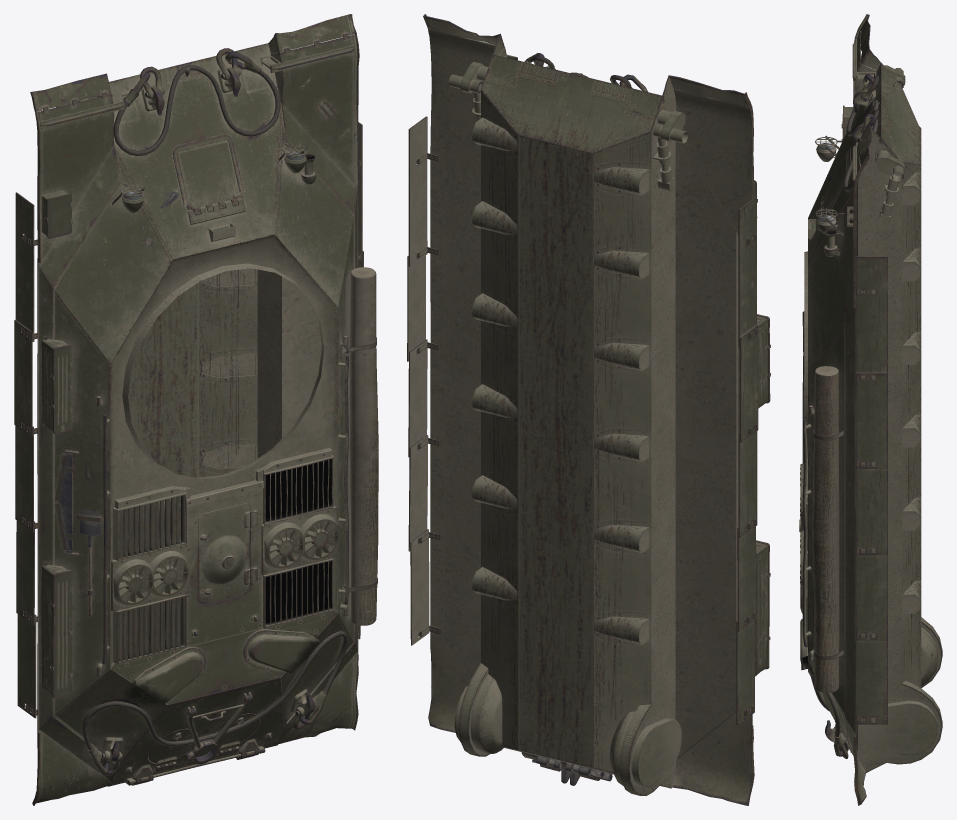
File: Hull.glb
3 views of the same model, side by side, from view 1: azimuth 30°, elevation 25°; view 2: azimuth 150°, elevation 25°; view 3: azimuth 270°, elevation 25° (orthographic). The views are drawn at different scales.
Visible parts, largest first — view 1: set_0_group_0; view 2: set_0_group_0; view 3: set_0_group_0.
Part boxes in pixels (left/top/right/bottom): set_0_group_0: left=14, top=14, right=378, bottom=805; set_0_group_0: left=407, top=14, right=770, bottom=805; set_0_group_0: left=799, top=14, right=942, bottom=805.
Size of the model in its own units: 3.43 by 7.06 by 1.4.
Materials: 1 (1 with a texture image).
